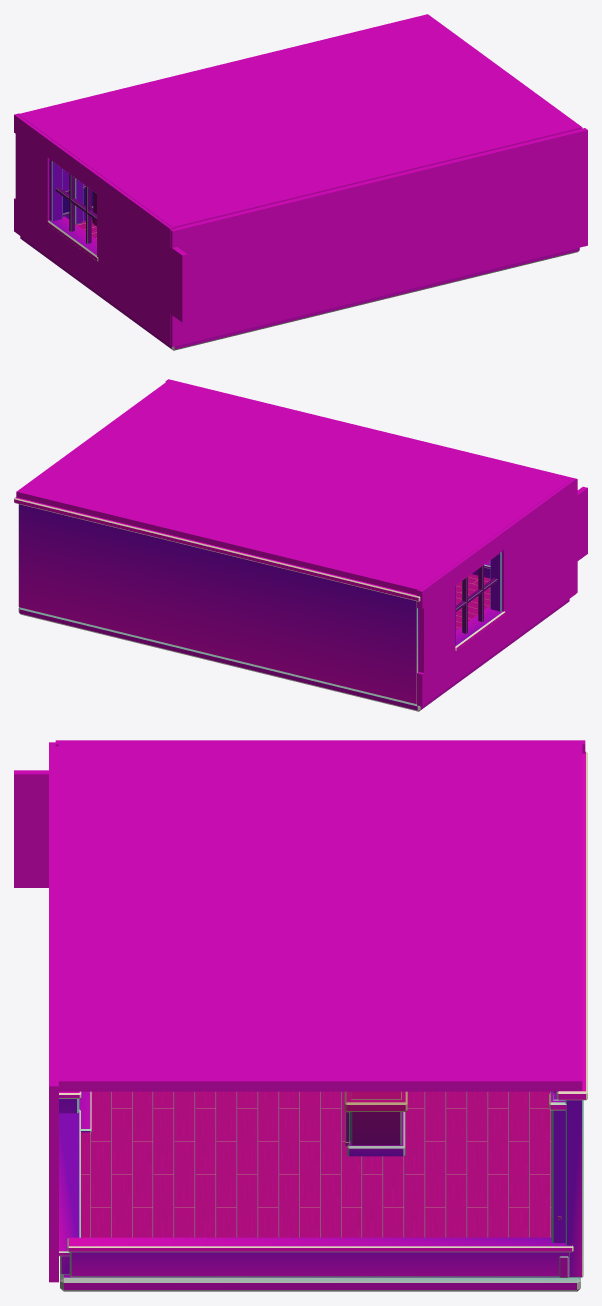
File: reference.glb
The picture shows the model from 3 angles, top to bottom: view 1: azimuth 30°, elevation 25°; view 2: azimuth 150°, elevation 25°; view 3: azimuth 270°, elevation 25°; orthographic projection. The views are drawn at different scales.
Visible parts, largest first — view 1: AstraLightBlockers.001, AstraArchitecture.001; view 2: AstraLightBlockers.001, AstraArchitecture.001, AstraFloor.001; view 3: AstraLightBlockers.001, AstraFloor.001, AstraArchitecture.001, AstraCounter.001.
Boxes of the visible parts, bbox=[...] form: AstraLightBlockers.001: bbox=[14, 14, 587, 346]; AstraArchitecture.001: bbox=[20, 158, 579, 350]; AstraLightBlockers.001: bbox=[16, 379, 587, 706]; AstraArchitecture.001: bbox=[14, 497, 569, 711]; AstraFloor.001: bbox=[456, 574, 490, 629]; AstraLightBlockers.001: bbox=[14, 740, 585, 1282]; AstraFloor.001: bbox=[81, 1091, 551, 1237]; AstraArchitecture.001: bbox=[59, 751, 587, 1291]; AstraCounter.001: bbox=[344, 1091, 407, 1156].
Bounding box in the file's own units: 14.64 × 4.21 × 10.3.
18 materials, 1 textured.
